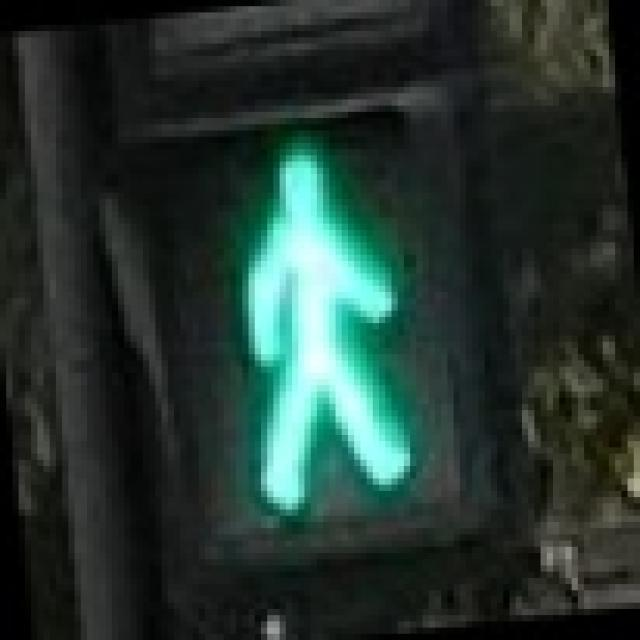geen-crossing: (155, 80, 466, 540)
